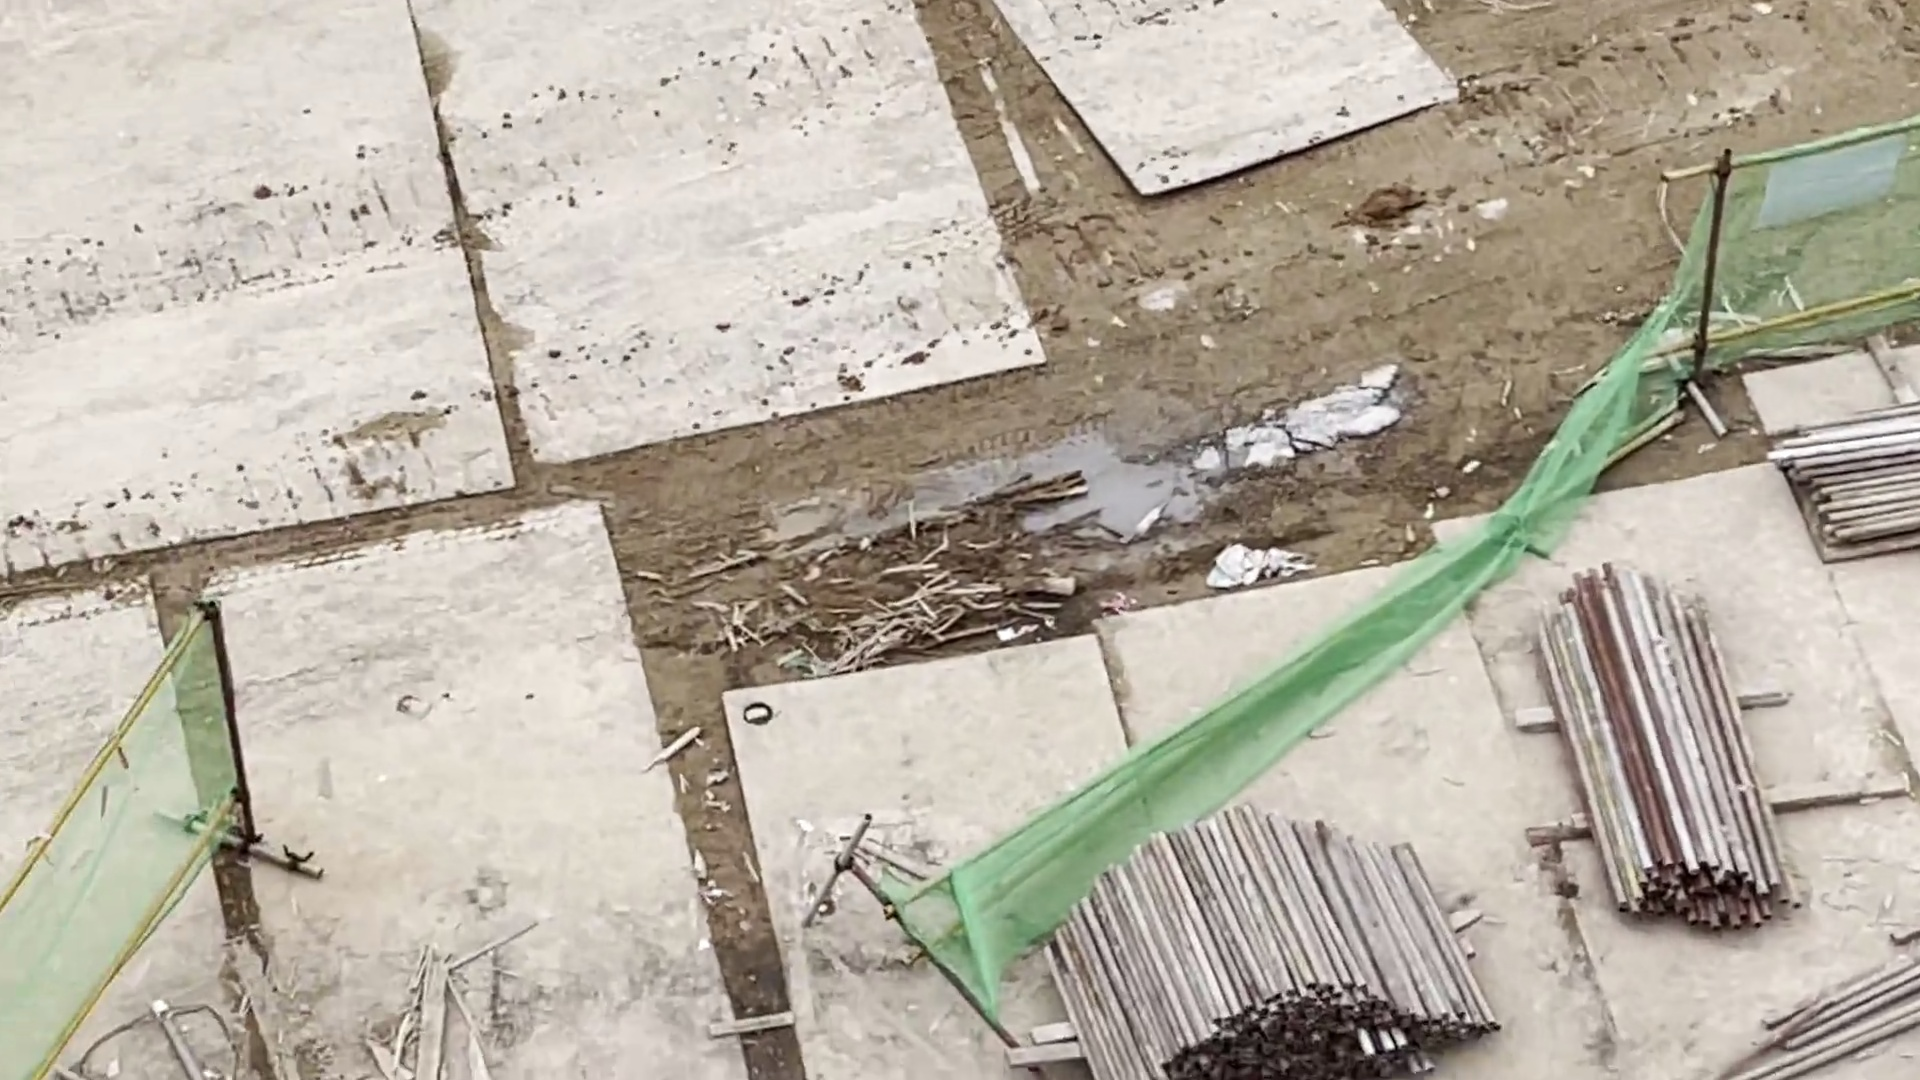wood: (1033, 812, 1491, 1080), (1528, 556, 1803, 945), (1771, 382, 1920, 553)
